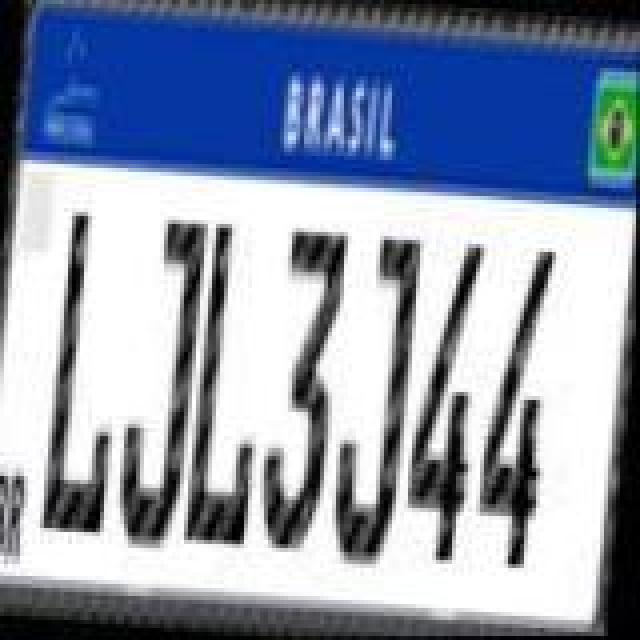3: (254, 222, 354, 558)
4: (402, 240, 494, 572), (474, 238, 566, 570)
J: (116, 214, 212, 554), (332, 232, 428, 572)
L: (40, 206, 136, 538), (184, 222, 280, 550)
